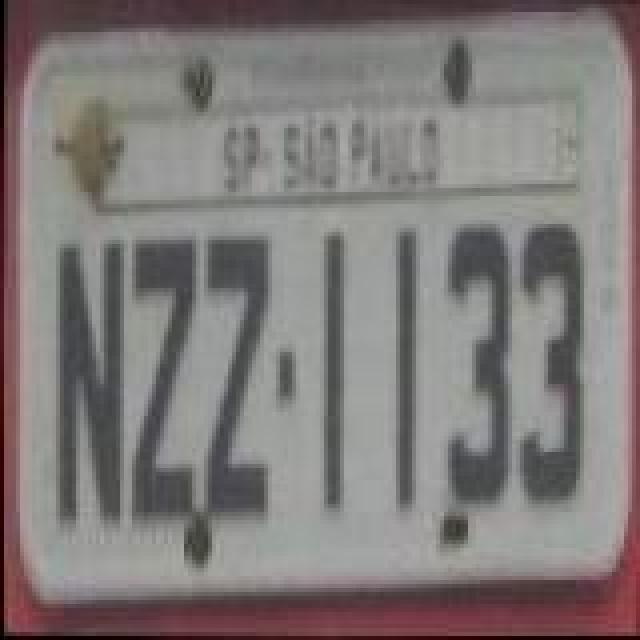1: (320, 234, 348, 514), (392, 232, 420, 512)
3: (514, 216, 586, 504), (444, 224, 512, 512)
N: (54, 244, 122, 524)
Z: (126, 238, 194, 526), (202, 232, 270, 520)
